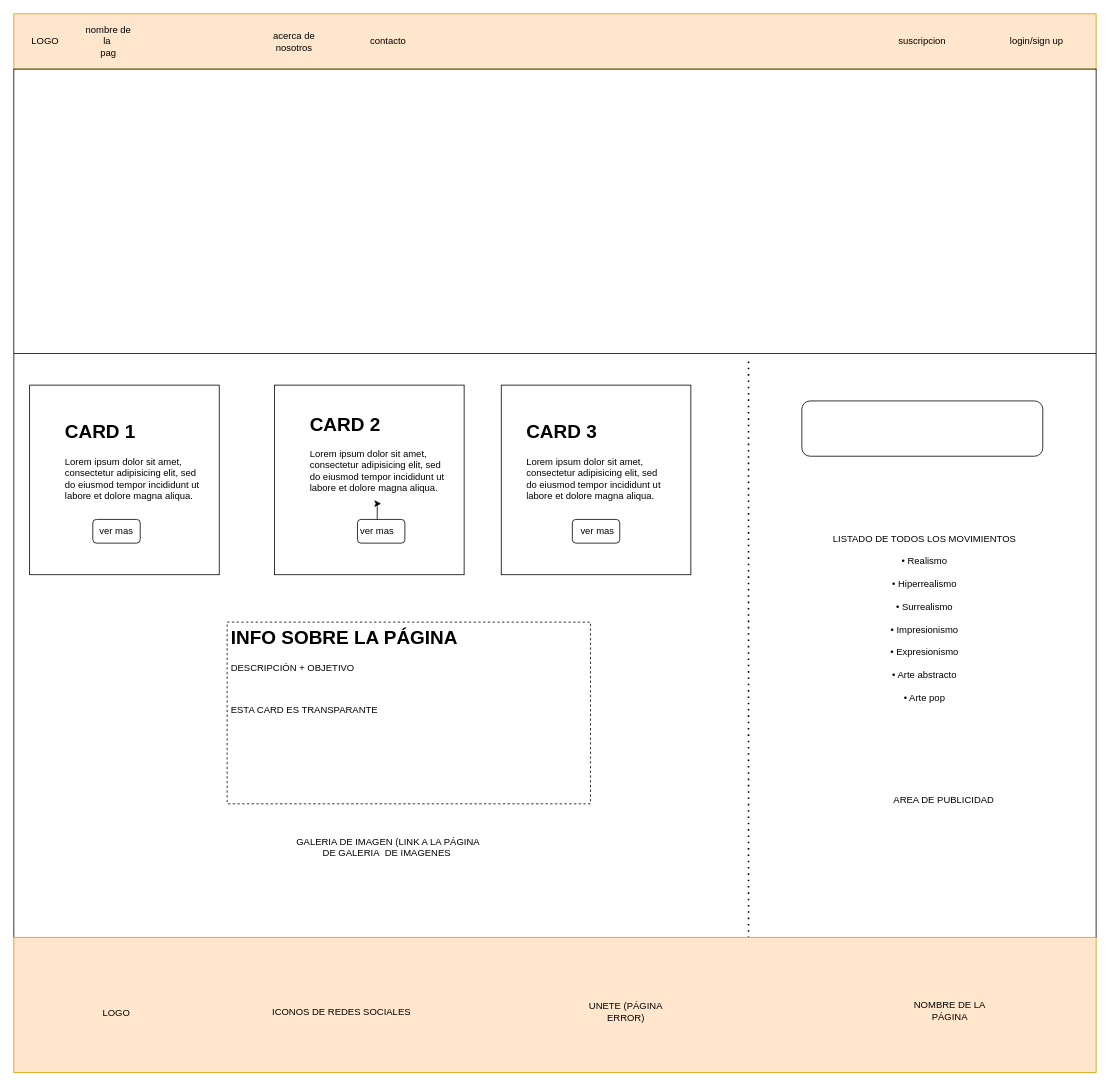
Image size: 1111x1087. Some labels were removed from this diagram. The shapes that lost their labels are listed below. From the top down, each one's box as (x1, y1, x2, y2) in pixels, then its label:
(13, 68, 1096, 354): CARROUSEL ( FOTO DE pintores de los movimientos)
(801, 400, 1043, 456): FORMULARIO DE BÚSQUEDA
